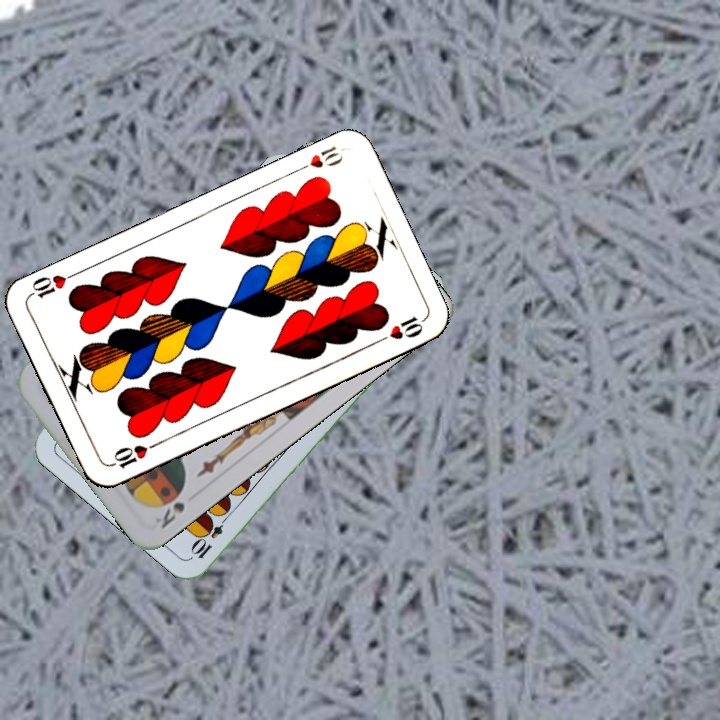E10: (188, 509, 232, 562)
H10: (106, 438, 162, 472), (290, 142, 346, 176)
SK: (151, 497, 188, 532)
